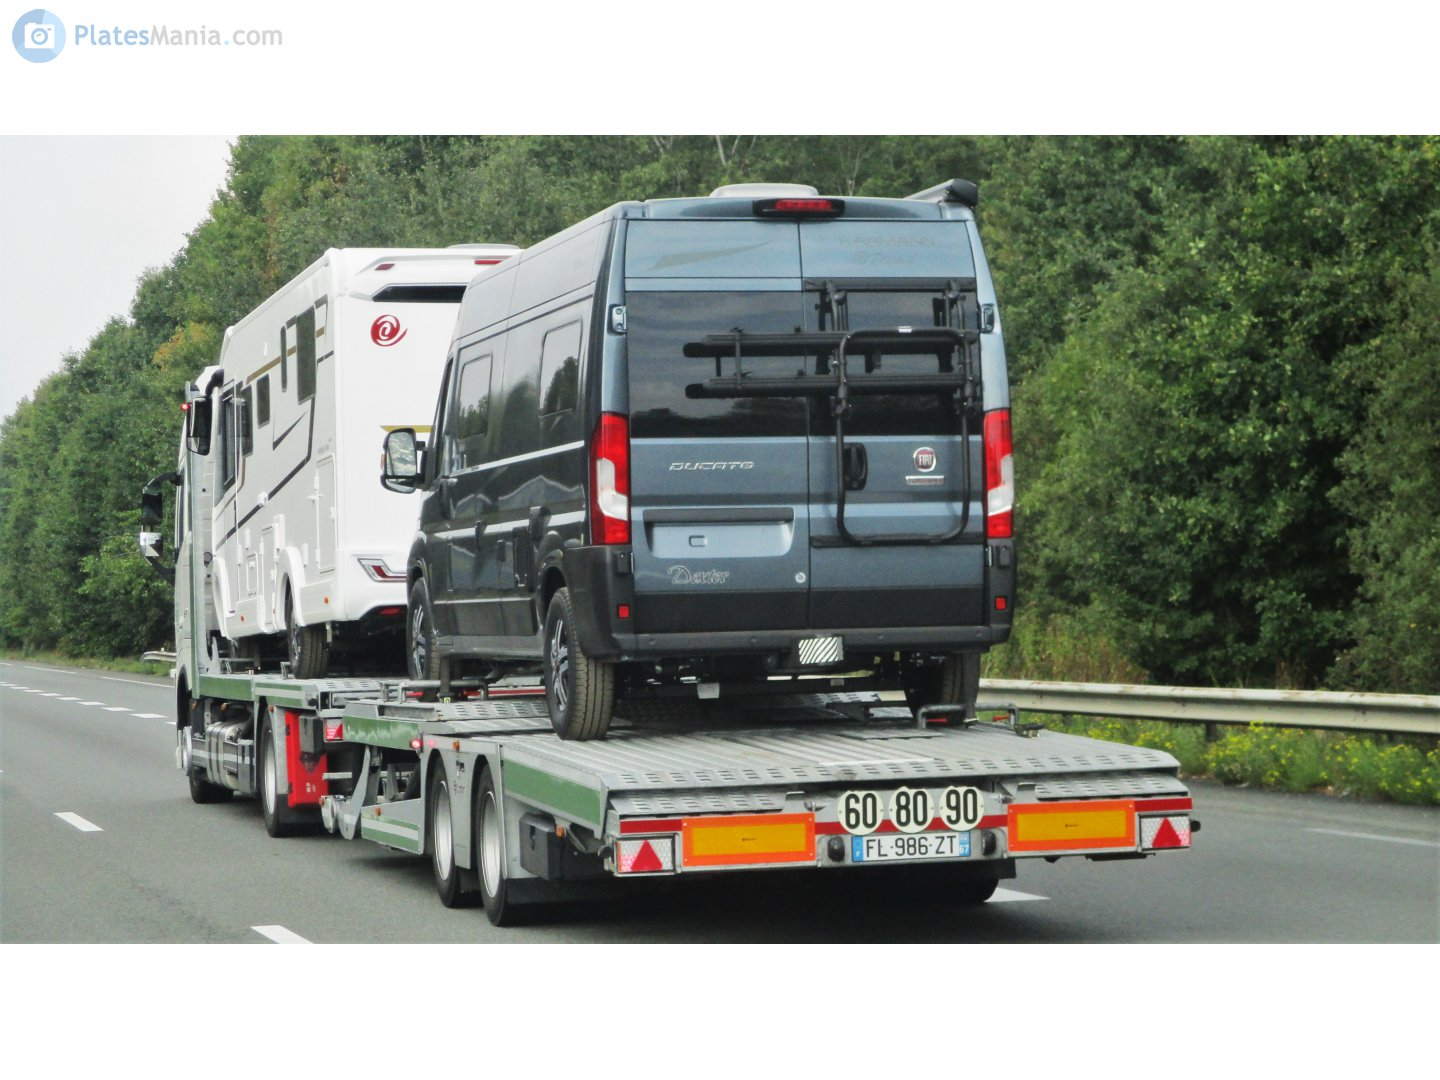licence plate: (845, 828, 979, 868)
